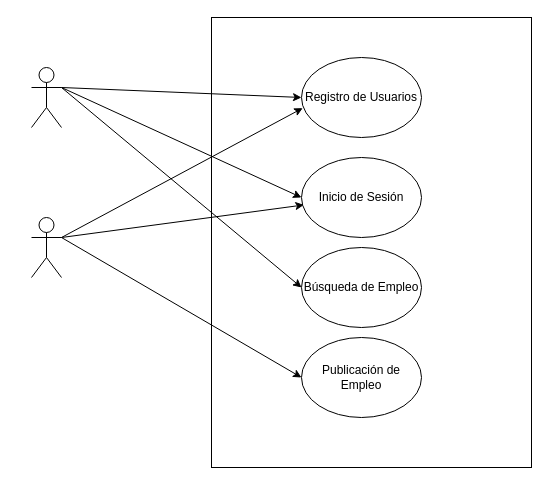
The diagram is 549 pixels wide and 485 high, and some of its shapes have lost their labels. Here are the shapes that lost their labels. From the top down, the centre of each, then its label:
[46,97]: Candidato
[46,247]: Empleador
